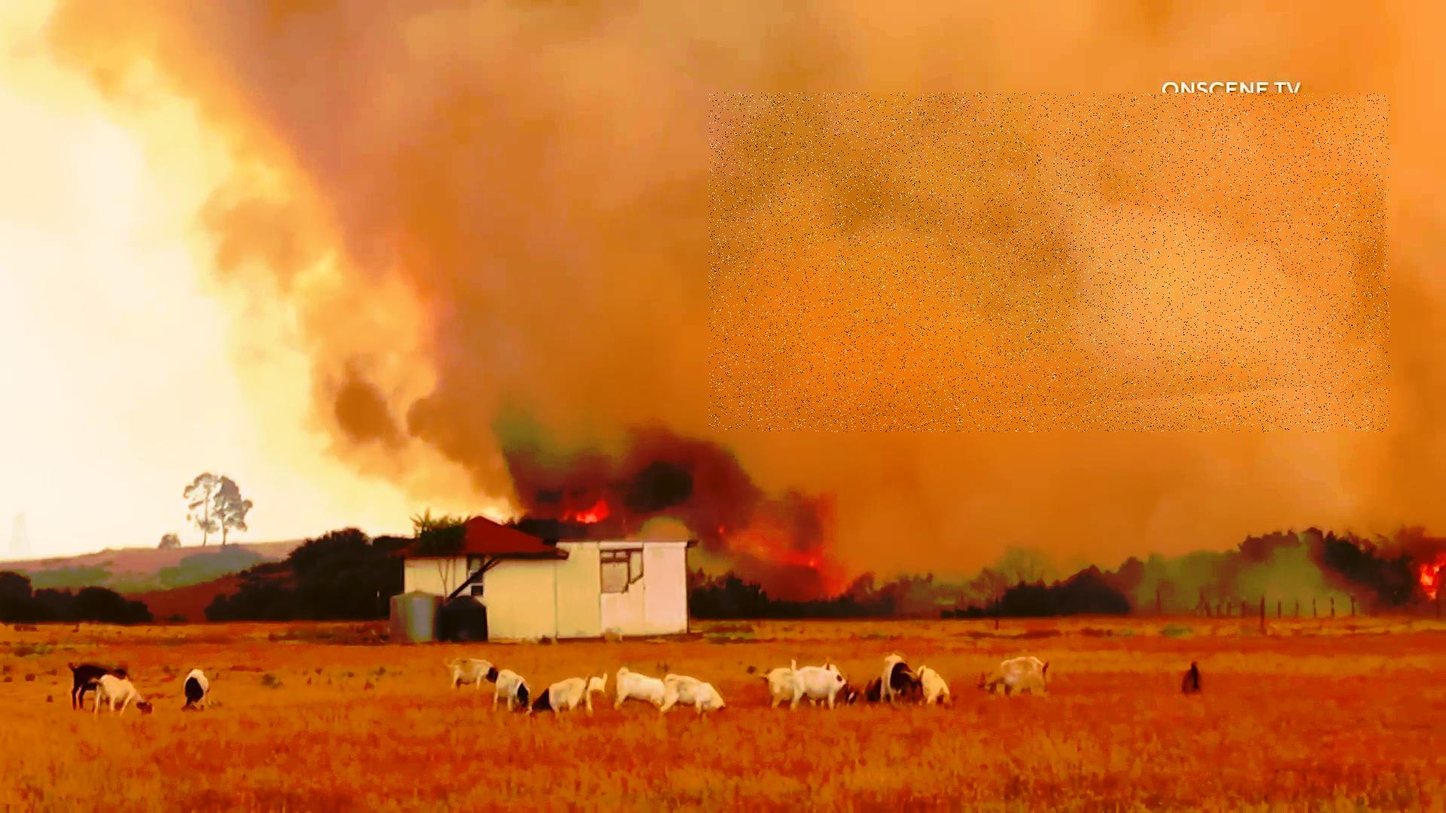smoke: (709, 93, 1390, 432)
